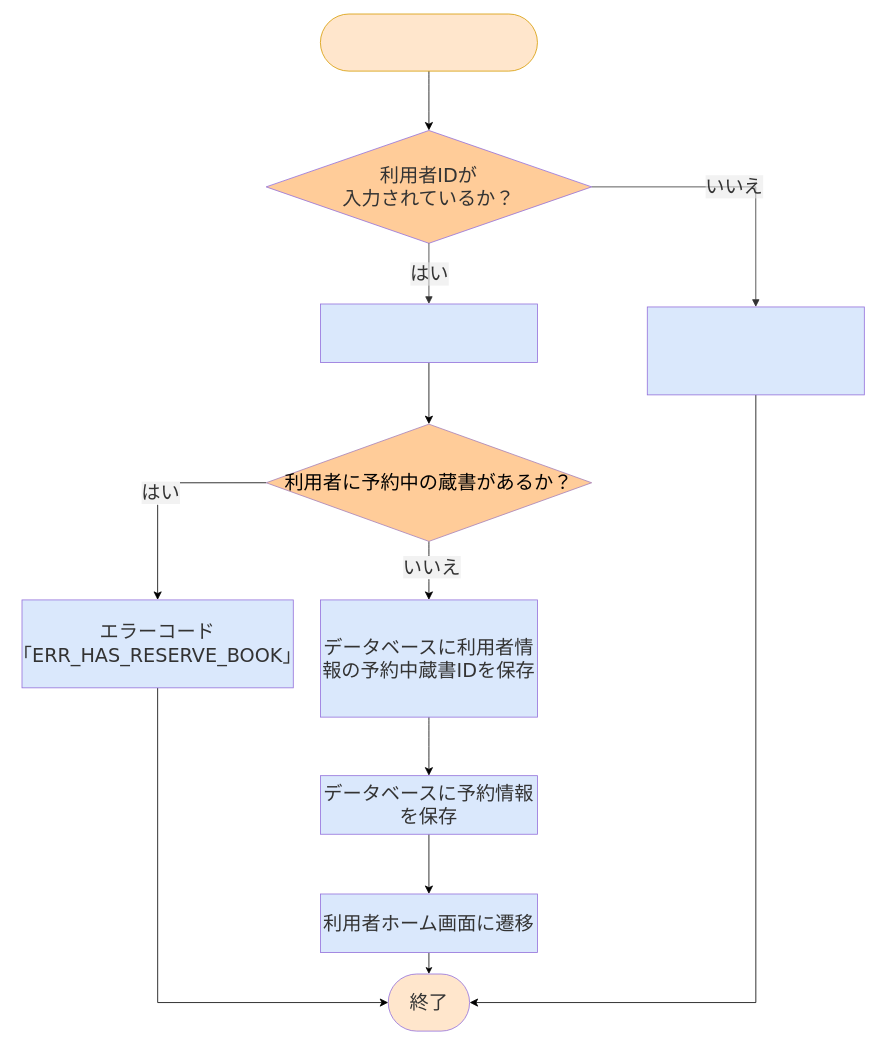
Some shapes in this 882 by 1046 pixel diagram are drawn without their labels. The centre of each missing label's shape, as x and y in pixels:
エラーコード「ERR_NON_USER_ID」: point (755, 350)
利用者の予約状況を取得: point (428, 333)
申請ボタン押下: point (428, 42)
